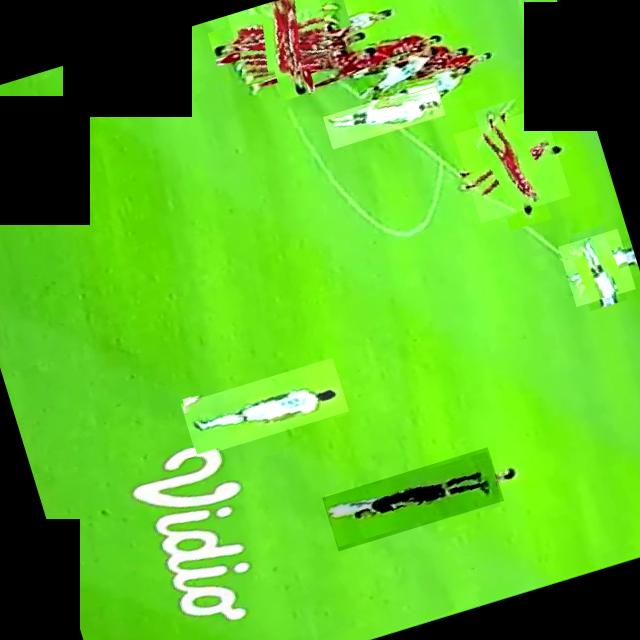referee: (322, 446, 504, 550)
soccer-player: (180, 356, 348, 456), (453, 106, 570, 222), (226, 0, 337, 85), (322, 81, 445, 148), (558, 228, 636, 306)
